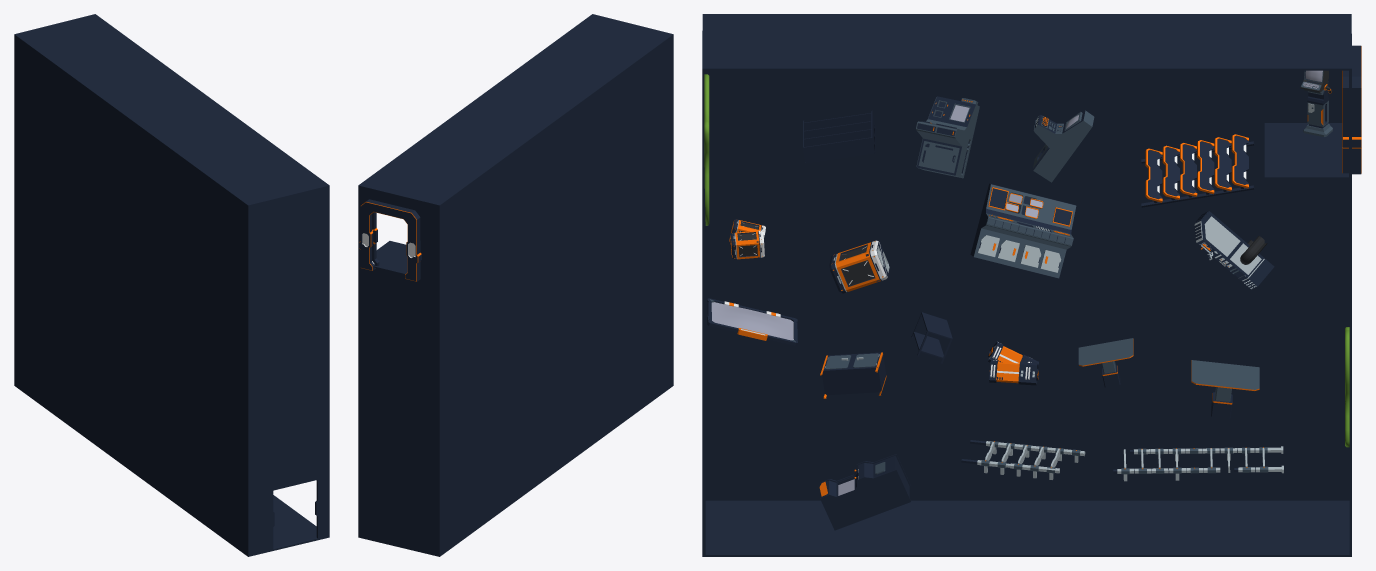
File: Room_10.fbx
3 renders of one model, left to right at view 1: azimuth 30°, elevation 25°; view 2: azimuth 150°, elevation 25°; view 3: azimuth 270°, elevation 25°, orthographic. The views are drawn at different scales.
Visible parts, largest first — view 1: Cube.105; view 2: Cube.105, Cube.094; view 3: Cube.105, Cube.194, Cube.166, Cylinder.050, Cube.167, Cylinder.058, Cube.169, Cube.163, Cube.162, Cylinder.057, Cube.160, Cube.175 (+9 smaller).
Boxes of the visible parts, box(x1,y1,x2,y2) form: Cube.105: box(14, 14, 329, 556); Cube.105: box(358, 14, 673, 556); Cube.094: box(359, 199, 421, 281); Cube.105: box(702, 14, 1351, 556); Cube.194: box(970, 183, 1076, 278); Cube.166: box(1141, 134, 1254, 207); Cylinder.050: box(819, 454, 911, 530); Cube.167: box(916, 96, 979, 178); Cylinder.058: box(1194, 211, 1274, 289); Cube.169: box(803, 110, 875, 163); Cube.163: box(707, 298, 797, 345); Cube.162: box(820, 352, 886, 398); Cylinder.057: box(1033, 110, 1094, 182); Cube.160: box(1191, 360, 1259, 418); Cube.175: box(1113, 446, 1283, 481).
Size of the model in its own units: 203 by 839 by 1027.
19 materials, 19 textured.
